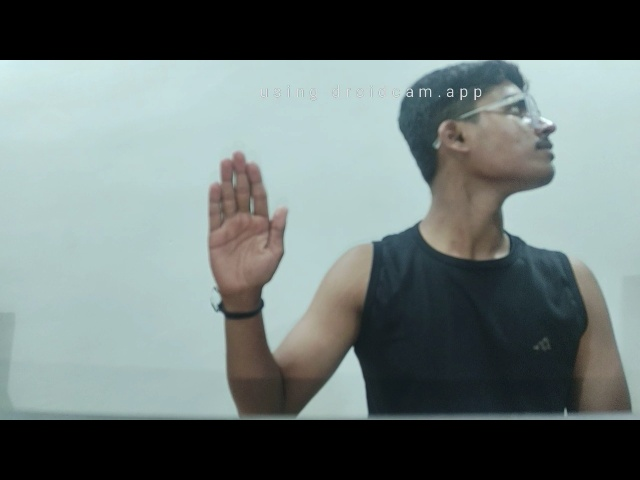Hello: (203, 146, 294, 301)
